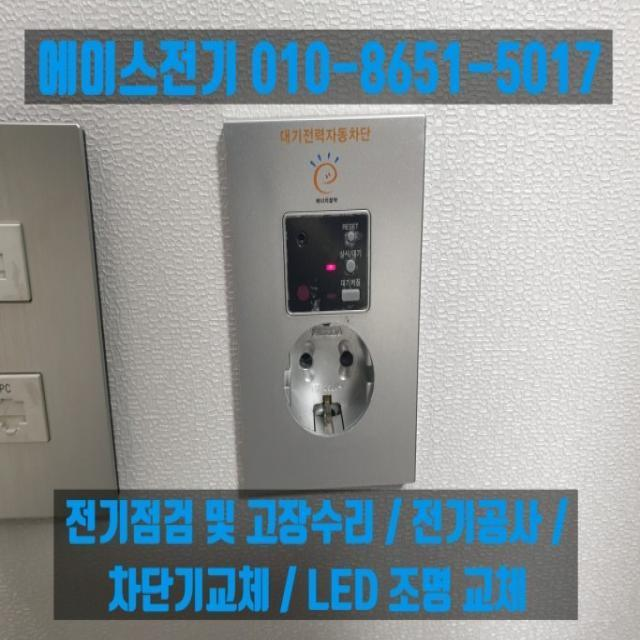typeb: (189, 123, 464, 512)
